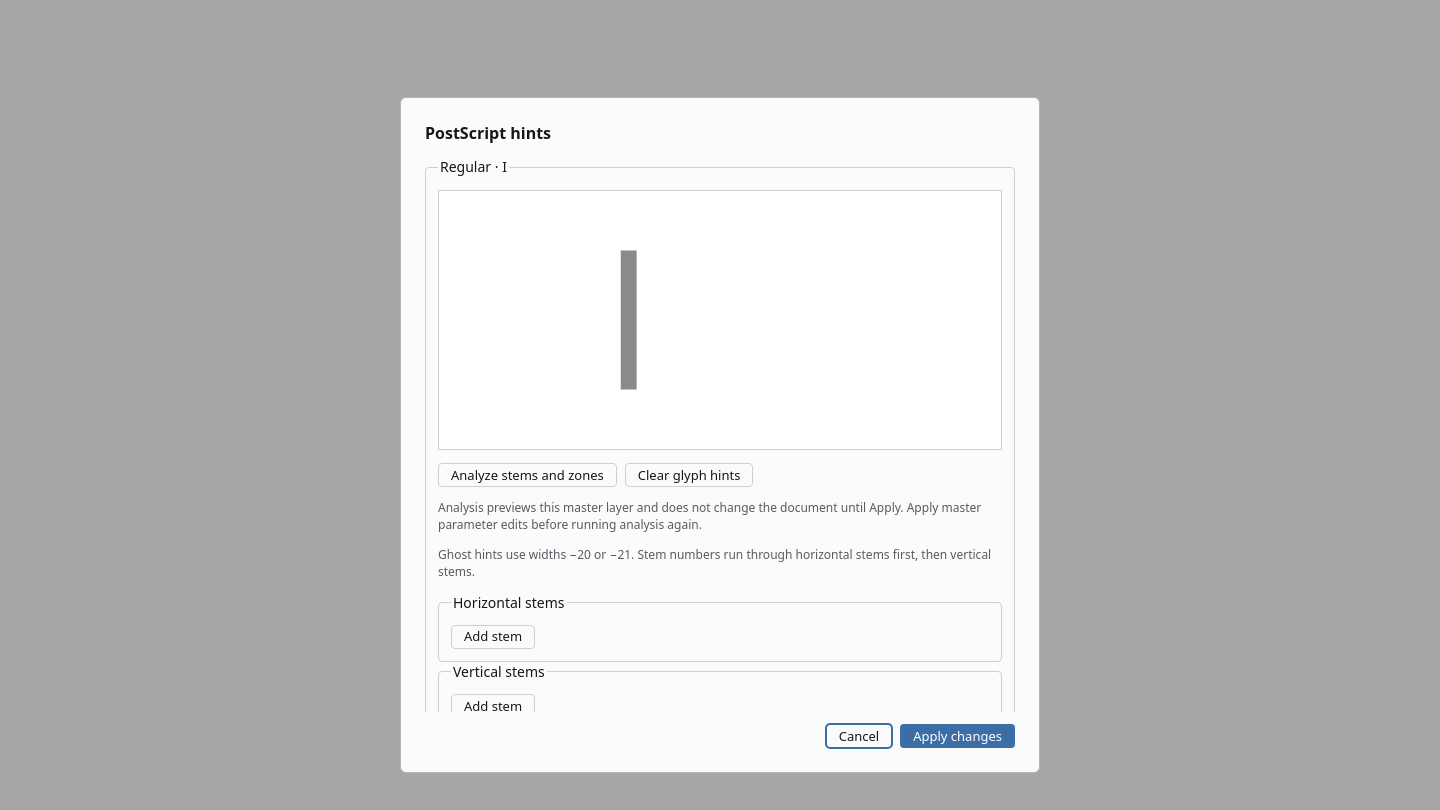
keeps the editor open and preserves the draft when applying fails
Expected: the button "Analyze stems and zones" is shown, 438,463 -> 617,487
Click the 1st button "Add stem".
click(493, 637)  # box 451,625 -> 535,649
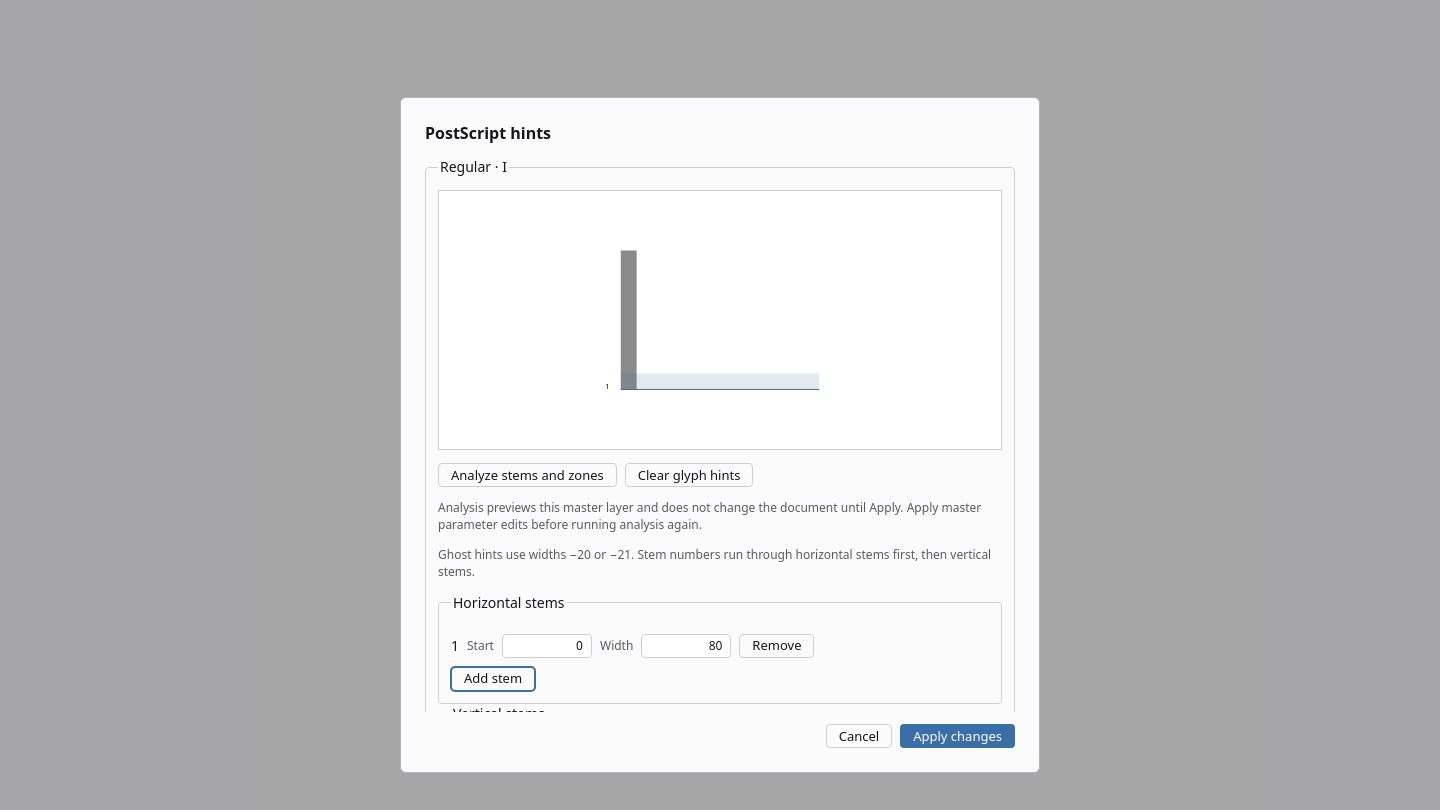
Click the button "Apply changes".
click(958, 736)  # box 900,724 -> 1015,748
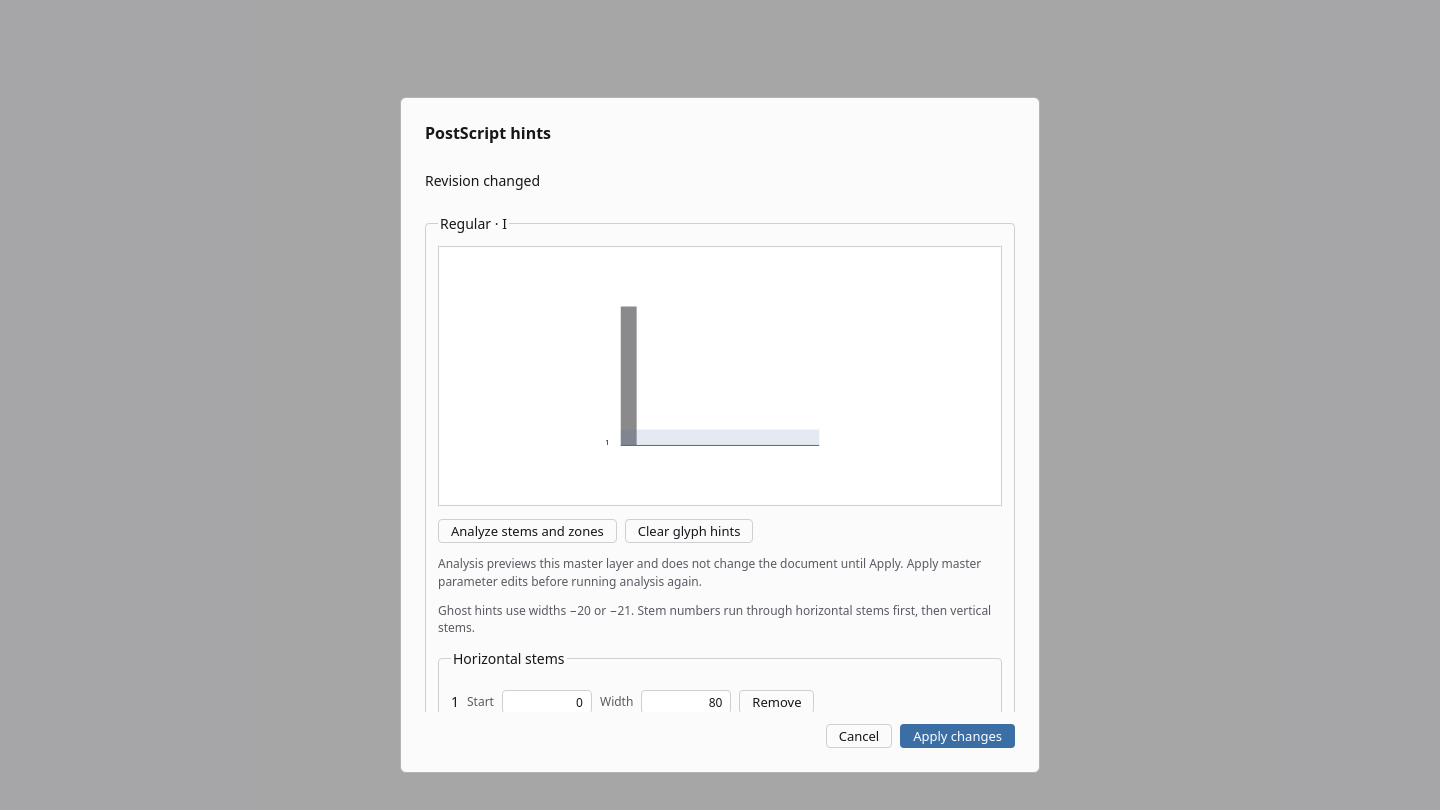
Now the field labelled "Width" holds "80", box 641,690 -> 731,712
Now the message "Revision changed" is shown, box 425,171 -> 540,190
